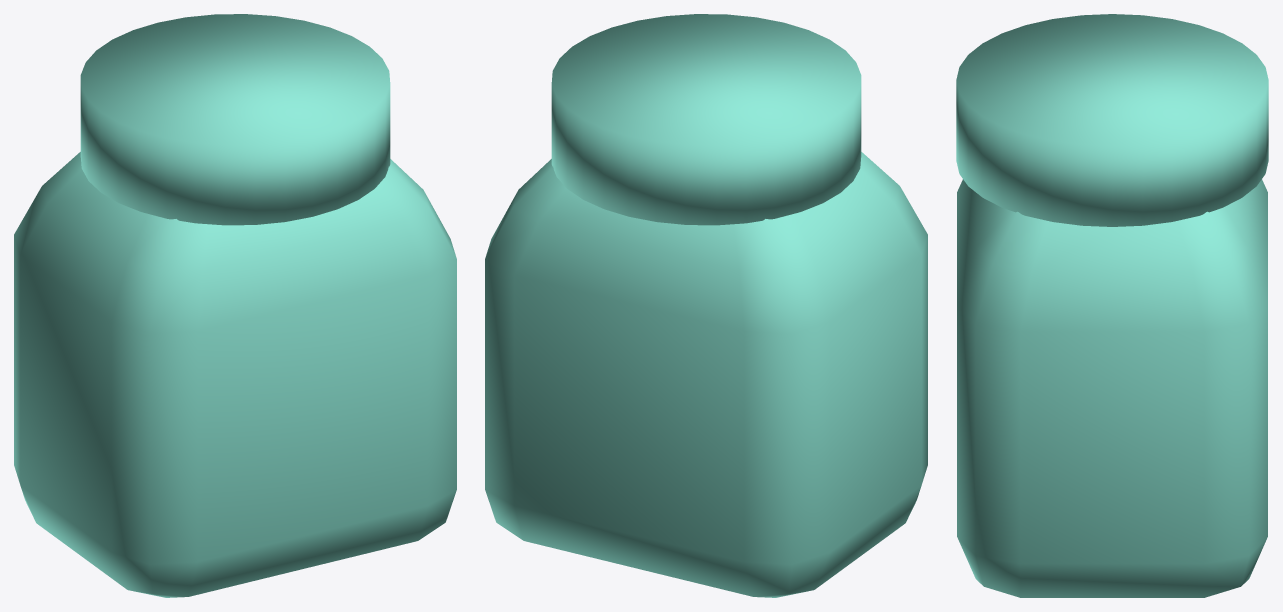
File: nutella.fbx
3 renders of one model, left to right at view 1: azimuth 30°, elevation 25°; view 2: azimuth 150°, elevation 25°; view 3: azimuth 270°, elevation 25°, orthographic.
Visible parts, largest first — view 1: Nutella; view 2: Nutella; view 3: Nutella.
Part boxes in pixels (<box>): Nutella: <box>14,14,456,597</box>; Nutella: <box>485,14,927,597</box>; Nutella: <box>956,14,1268,597</box>.
Size of the model in its own units: 154 by 198 by 122.
